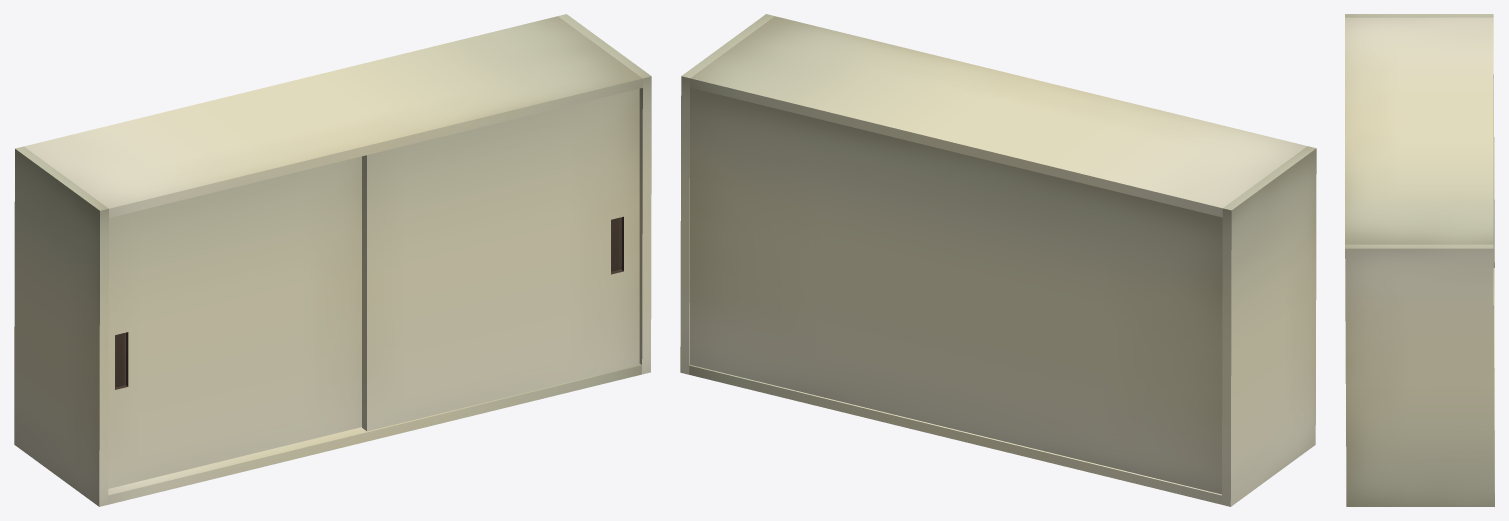
File: cabin05aa.fbx
3 views of the same model, side by side, from view 1: azimuth 30°, elevation 25°; view 2: azimuth 150°, elevation 25°; view 3: azimuth 270°, elevation 25° (orthographic). The views are drawn at different scales.
Visible parts, largest first — view 1: cabin05aa; view 2: cabin05aa; view 3: cabin05aa.
Part boxes in pixels (x1,y1,x2,y2): cabin05aa: (14, 14, 651, 506); cabin05aa: (680, 14, 1316, 506); cabin05aa: (1345, 14, 1494, 506).
Bounding box in the file's own units: 1.24 × 0.6369 × 0.3345.
